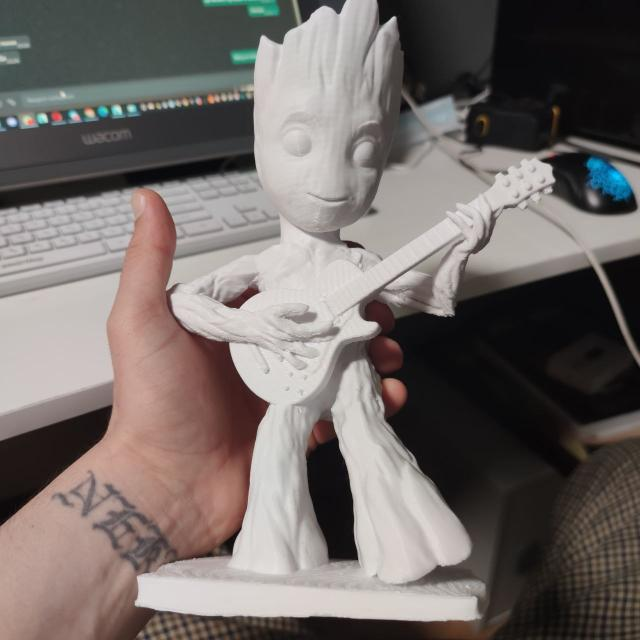Without deffect: (140, 1, 557, 631)
